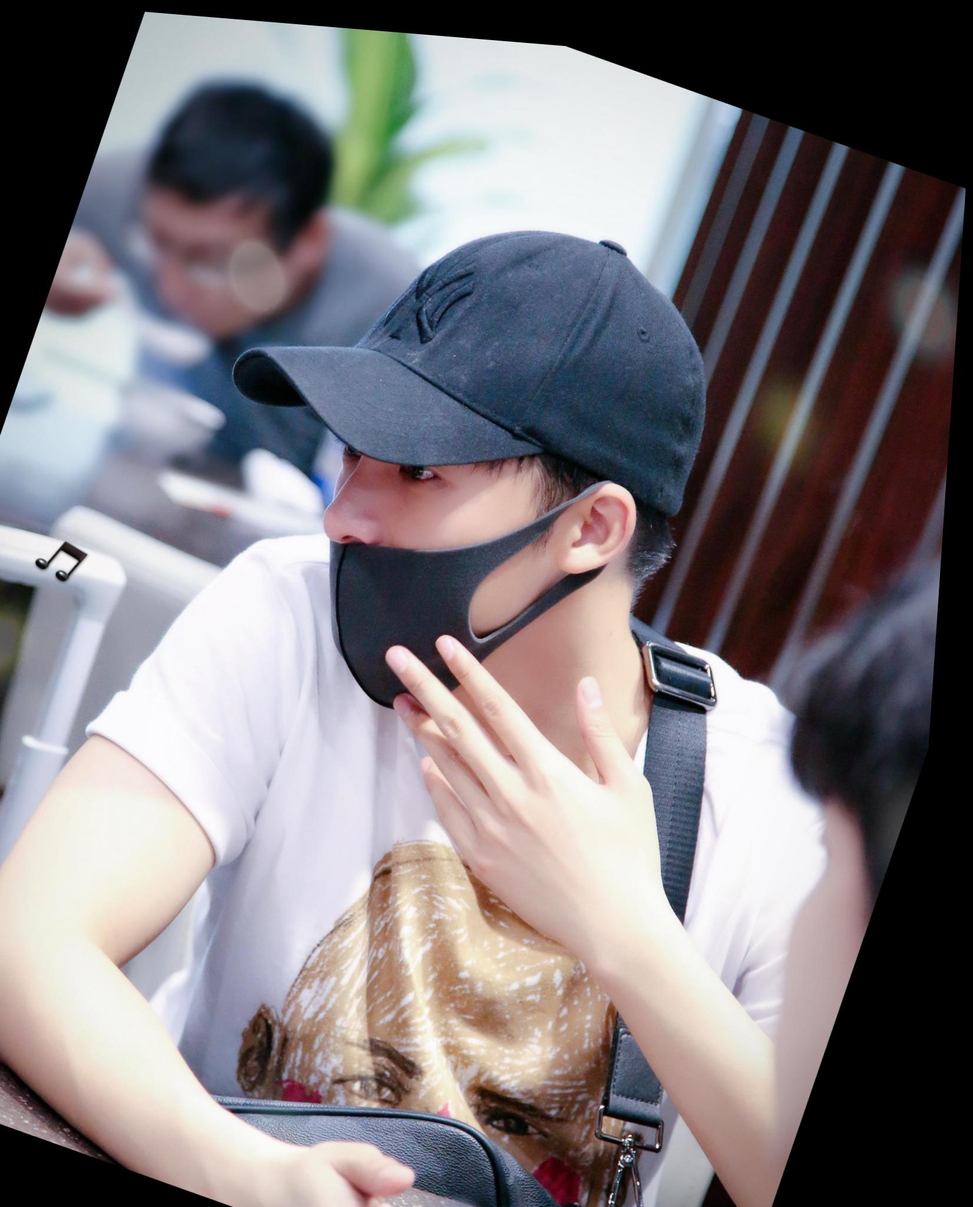NONE: (116, 179, 293, 348)
WRONG: (266, 348, 599, 736)
